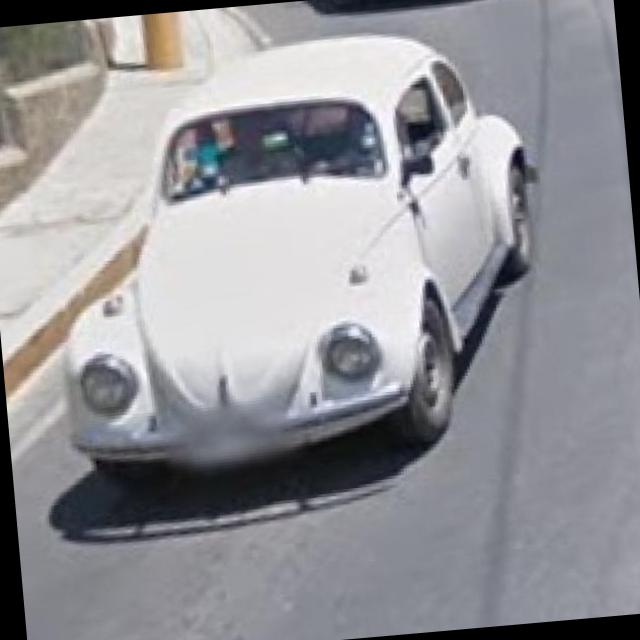car: (48, 25, 550, 500)
